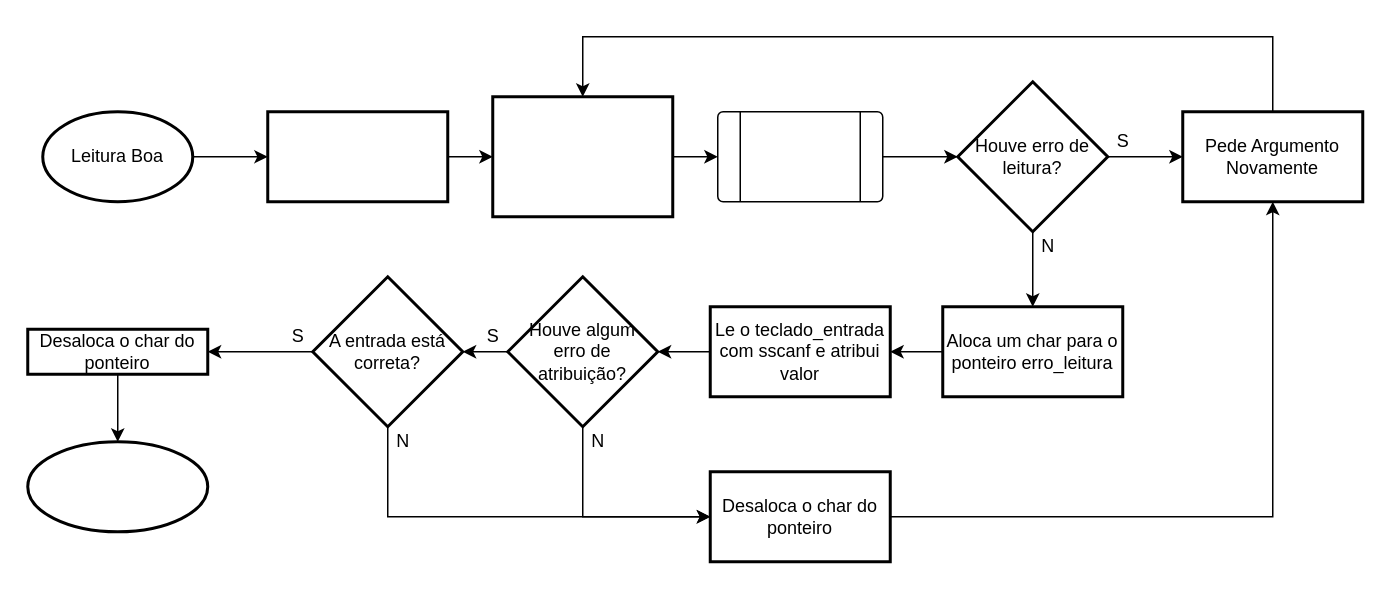
Image size: 1389x590. Some labels were removed from this diagram. The shapes that lost their labels are listed below. From the top down, each one's centre as x and y in pixels, then its label:
At point (357, 156): "Declara ponteiro erro_leitura Declara o vetor teclado_entrada".
At point (582, 156): "Le o teclado com fgets e o valor retornado é atribuido ao ponteiro erro_leitura".
At point (799, 156): "Limpa_buffer".
At point (117, 486): "Fim".
